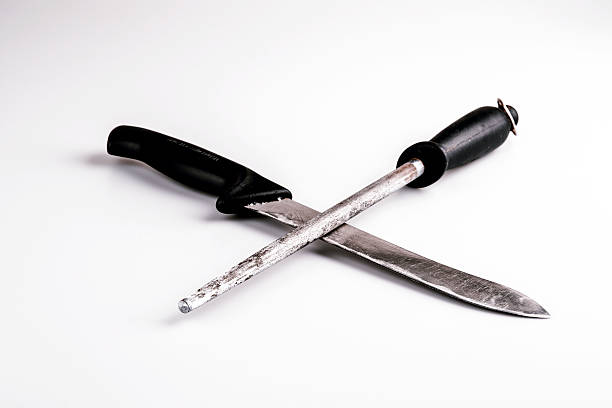knife: (104, 122, 554, 321)
